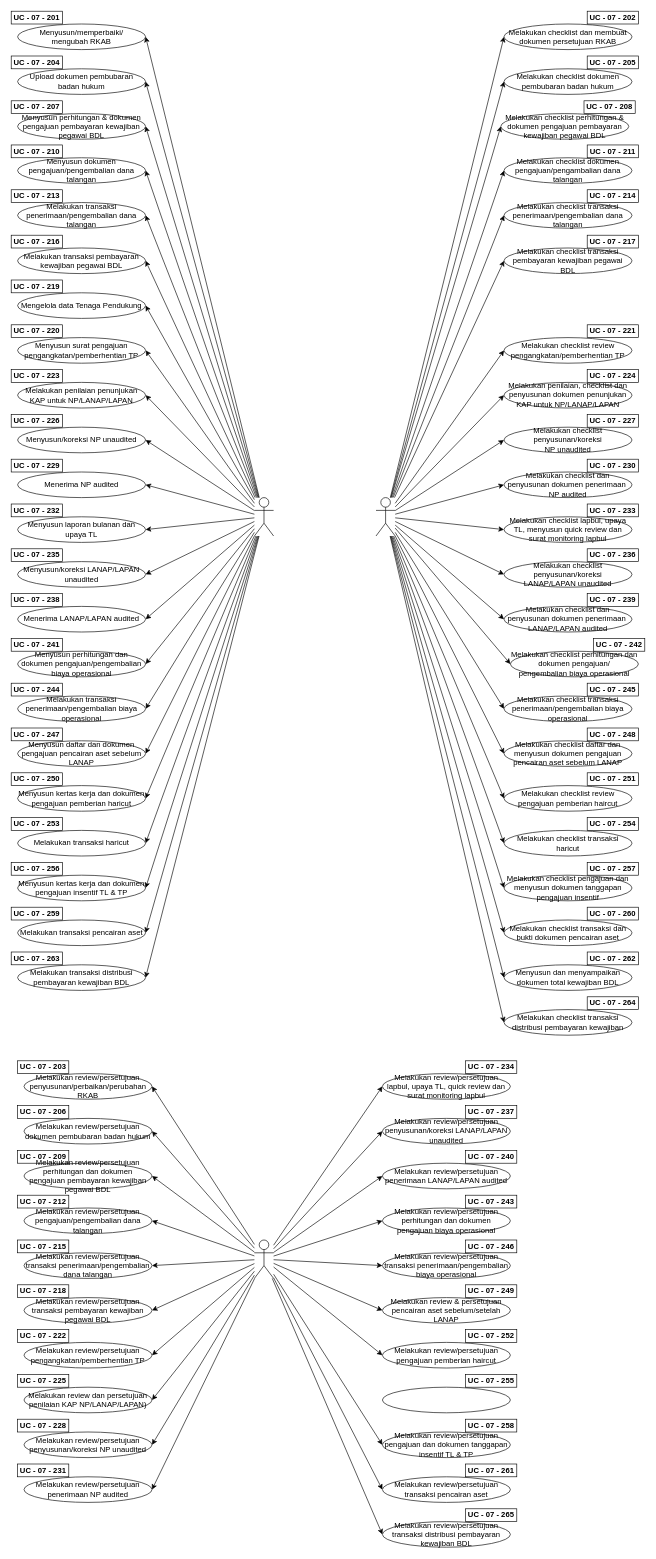
Image size: 656x1559. Some labels were removed from this diagram. Here are the shapes that lost their labels. From the top down, the centre of each, then its label:
At (264,516): "TL".
At (385,516): "Pelaksana Likuidasi".
At (264,1258): "Katim, Kadiv Likuidasi DG, DE, KE".
At (446,1400): "Melakukan review/persetujuan transaksi haircut".
